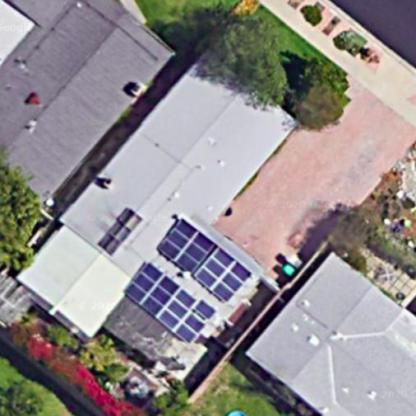solar_panel: (153, 214, 271, 310), (109, 260, 217, 345)
